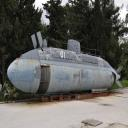submarine: (8, 33, 124, 95)
